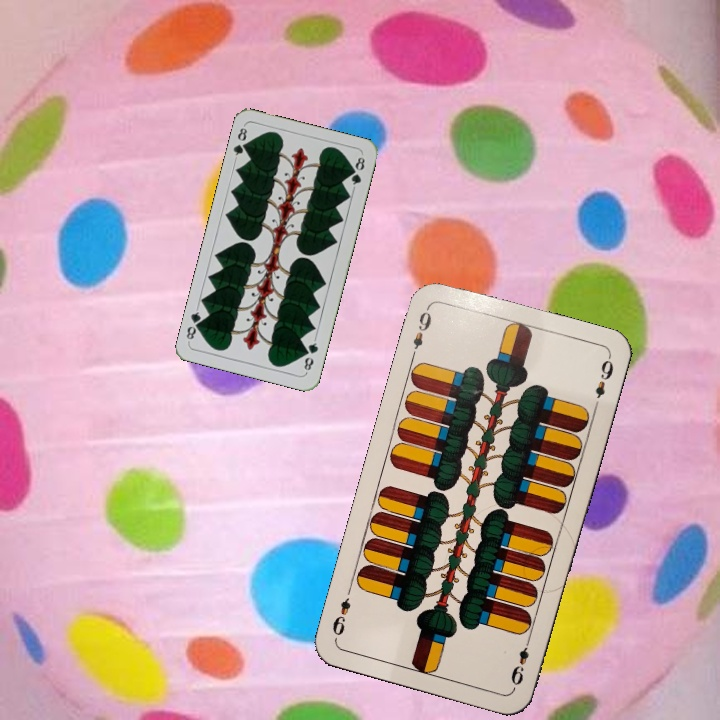E9: (507, 633, 534, 691), (407, 303, 434, 361)
G8: (229, 122, 252, 162), (299, 335, 321, 375)
